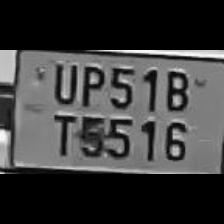1: (134, 116, 158, 162), (138, 66, 160, 114)
5: (103, 63, 135, 111), (101, 116, 133, 159), (74, 113, 104, 158)
6: (158, 118, 190, 162)
B: (160, 66, 190, 112)
P: (74, 60, 104, 108)
T: (45, 110, 77, 158)
U: (48, 60, 78, 104)
